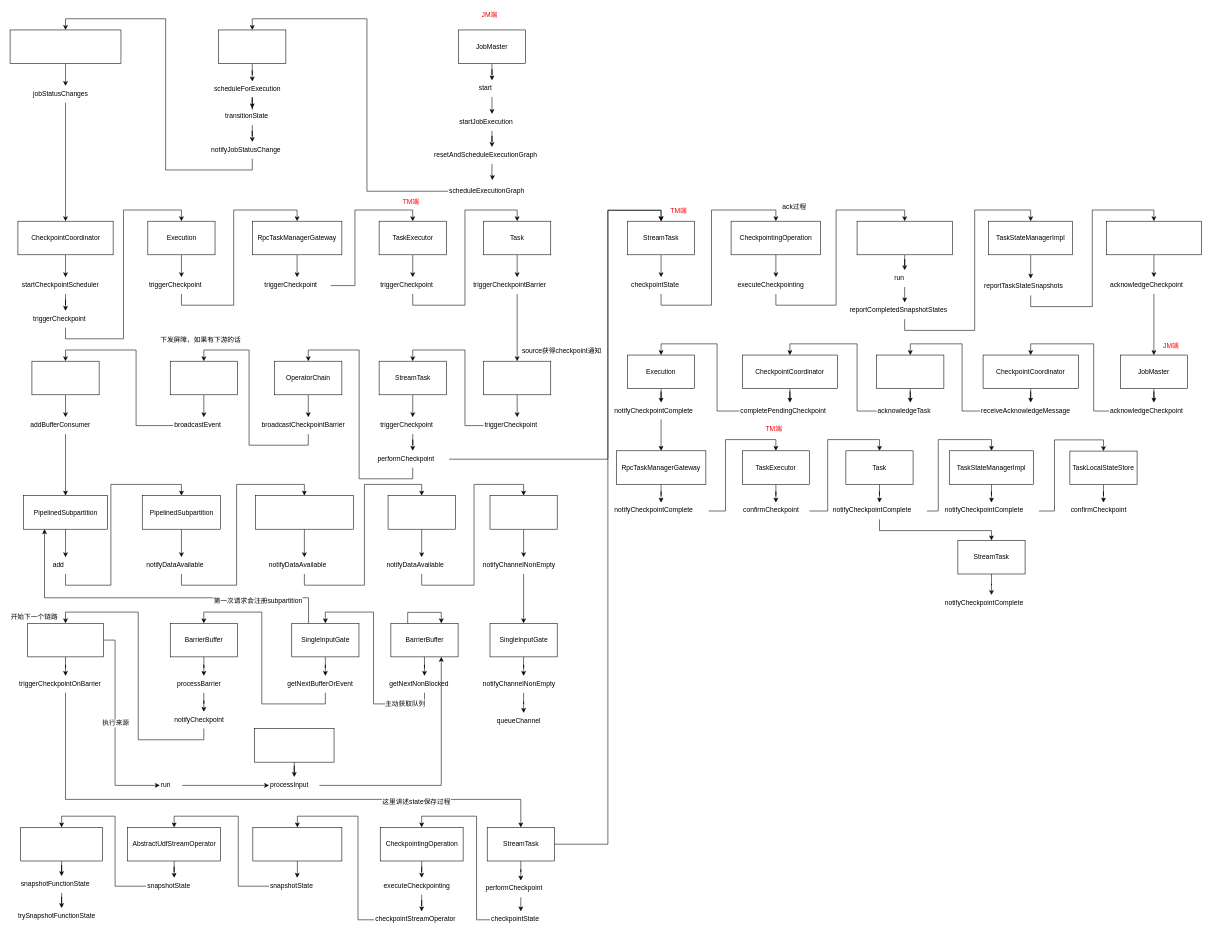
This 1211x937 diagram has some shape labels left out. Each missing label, with the centre of its shape:
"AbstractStreamOperator" goes at point 297,844.
"AsyncCheckpointRunnable" goes at point 904,238.
"CheckpointCoordinatorDeActivator" goes at point 65,46.
"ExecutionGraph" goes at point 252,46.
"InputChannel" goes at point 523,512.
"LocalInputChannel" goes at point 421,512.
"OneInputStreamTask" goes at point 65,640.
"PendingCheckpoint" goes at point 910,371.
"PipelinedSubpartitionView" goes at point 304,512.
"RecordWriter" goes at point 203,378.
"ResultPartition" goes at point 65,378.
"RpcCheckpointResponder" goes at point 1153,238.
"SourceStreamTask" goes at point 517,378.
"StreamingFunctionUtils" goes at point 61,844.
"StreamInputProcessor" goes at point 294,745.
